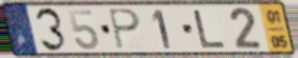1: (151, 9, 173, 49)
2: (231, 6, 266, 52)
3: (31, 6, 67, 53)
5: (66, 8, 101, 51)
L: (192, 8, 229, 49)
P: (106, 8, 143, 52)
